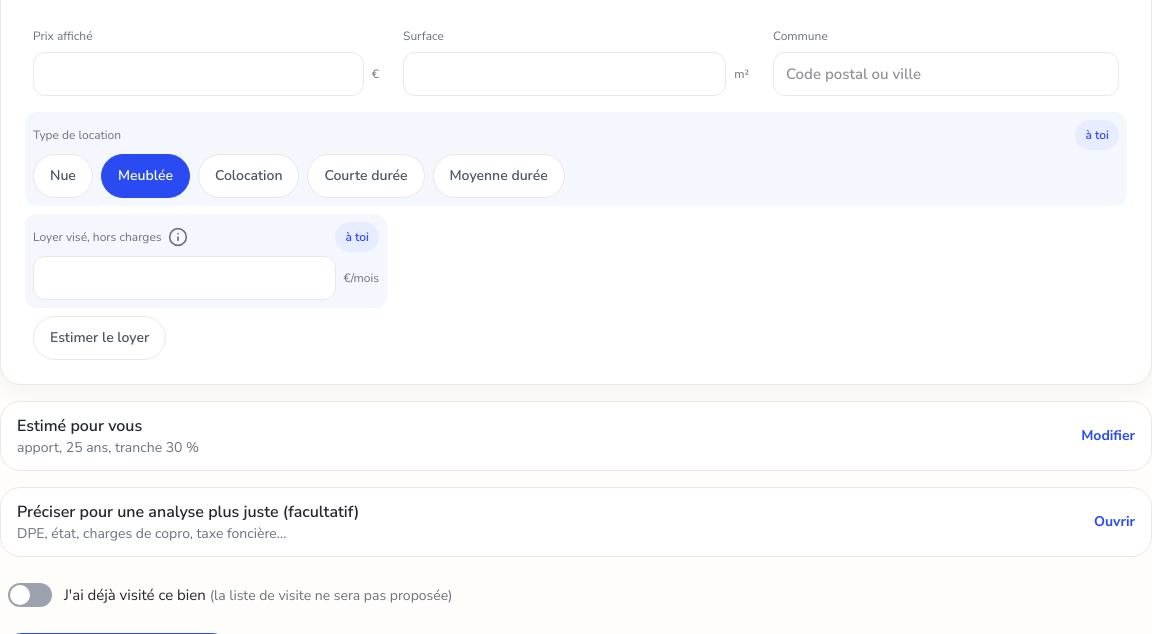
Test case: Vérifier : moins de questions inutiles › rez-de-chaussée : plus d’ascenseur à renseigner
Click the button "Préciser pour une analyse plus juste" at (188,512), box [0,487,1151,557]
(page scrolled)
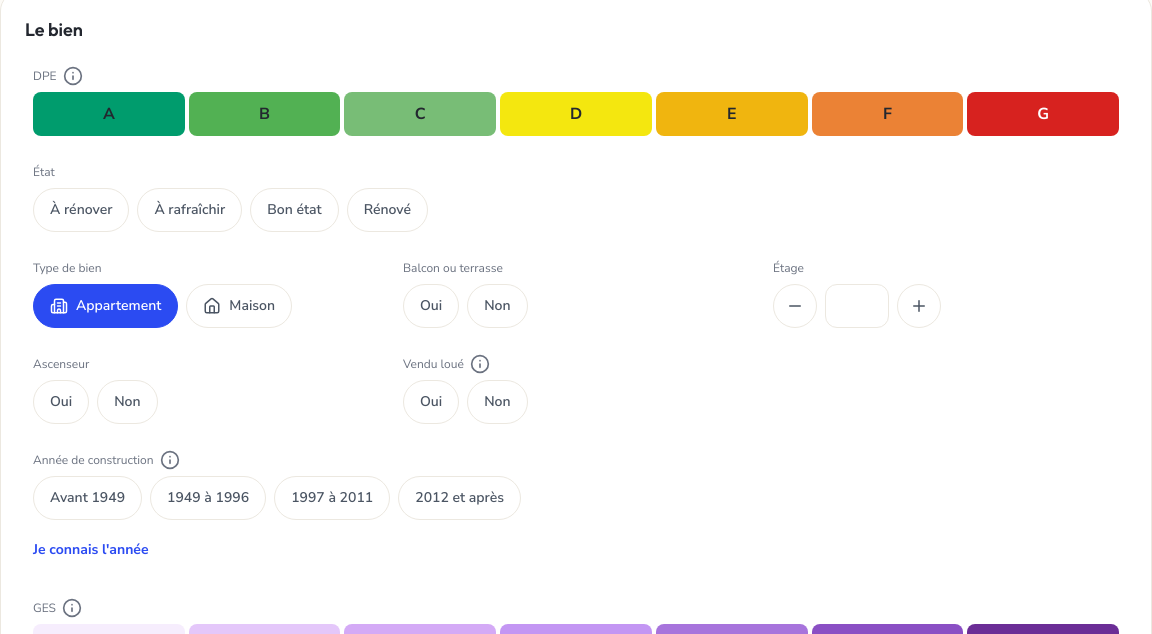
Now the element named "Ascenseur" is shown, box [33,380,158,424]
Click the button named "Un étage de plus" at (919,306), box [897,284,941,328]
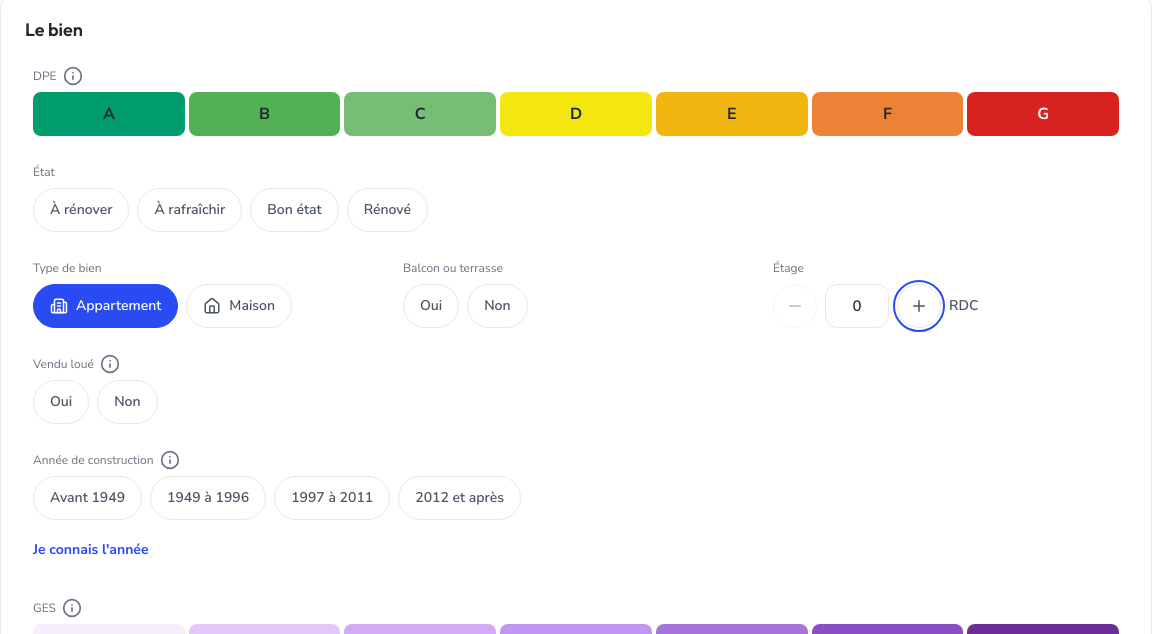
Now the field labelled "Étage" holds "0", box [825,284,889,328]
Now the text "RDC" is shown, box [949,296,978,316]
Now the text "Ascenseur" is gone
